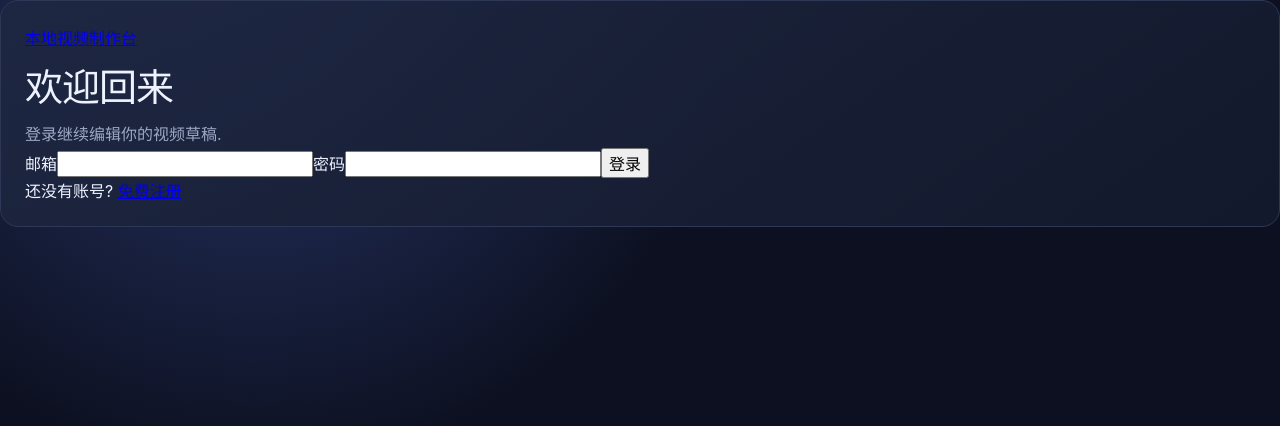
Scenario: LoginPage R8 (rev38) › HTTP 401 -> inline error message + no redirect + no token
Type "a@b.c" into the field labelled "邮箱" at (185, 164), box [57,151,313,177]
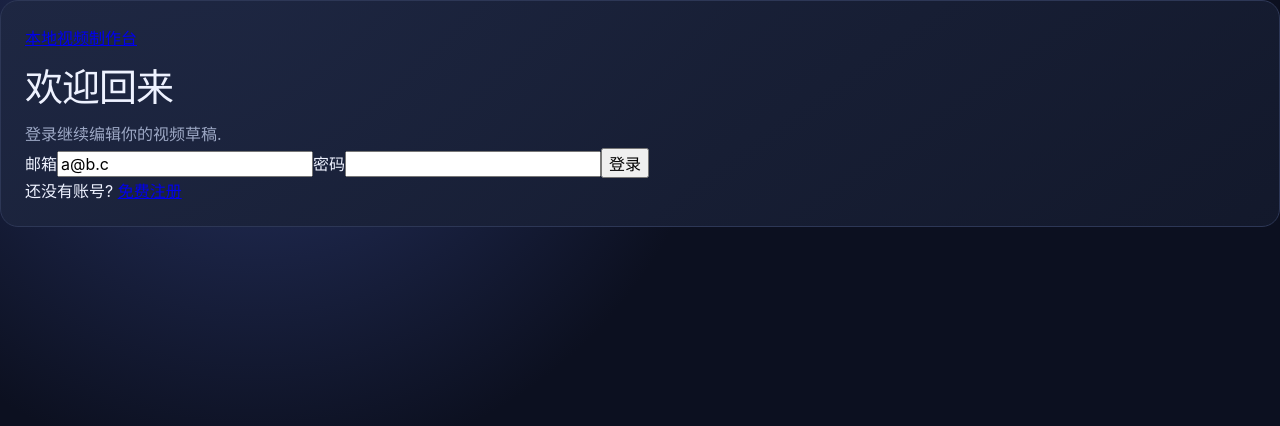
Type "wrong" into the password field labelled "密码" at (473, 164), box [345,151,601,177]
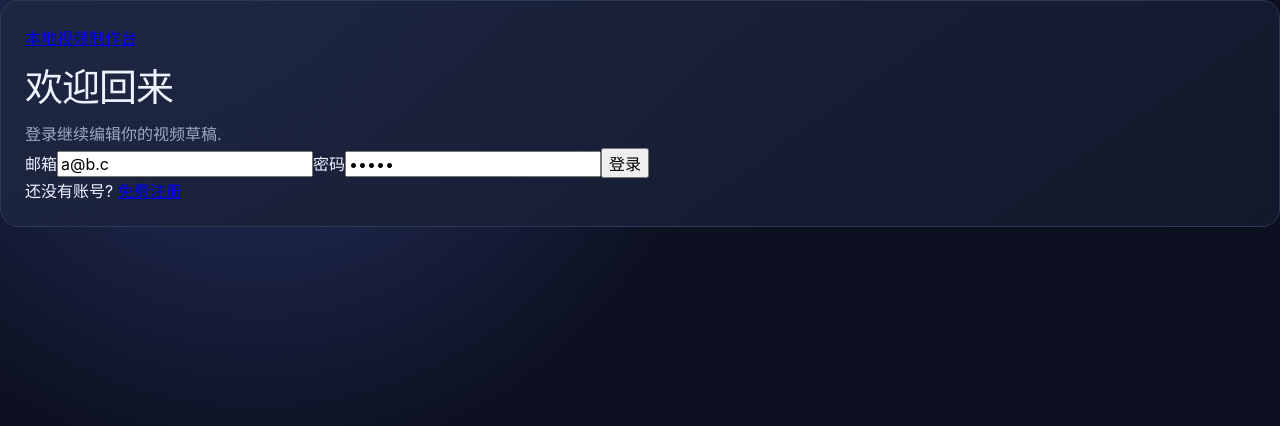
Submit the form, box [25,148,649,178]
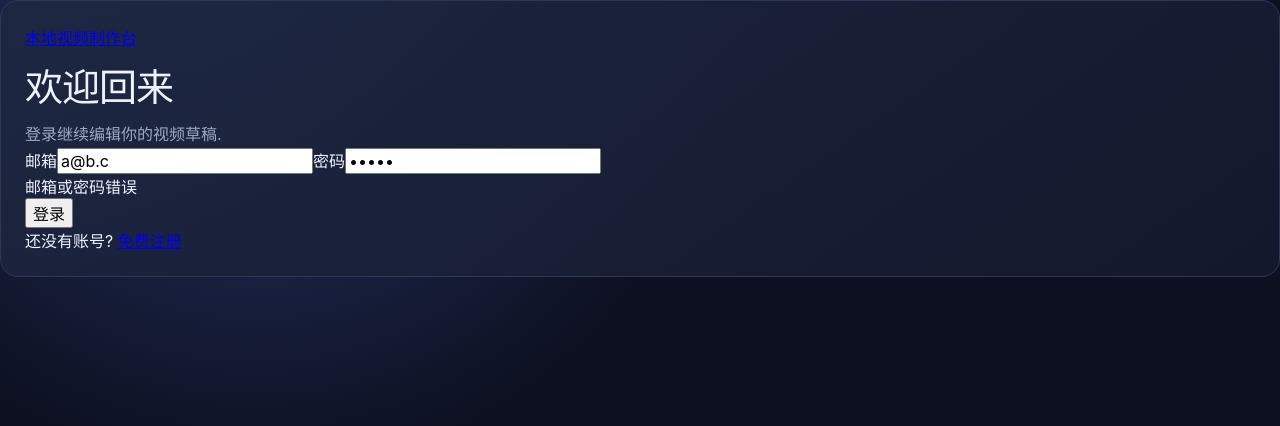
Check: the text with class "err" reads "邮箱或密码错误", box [25,177,137,197]
